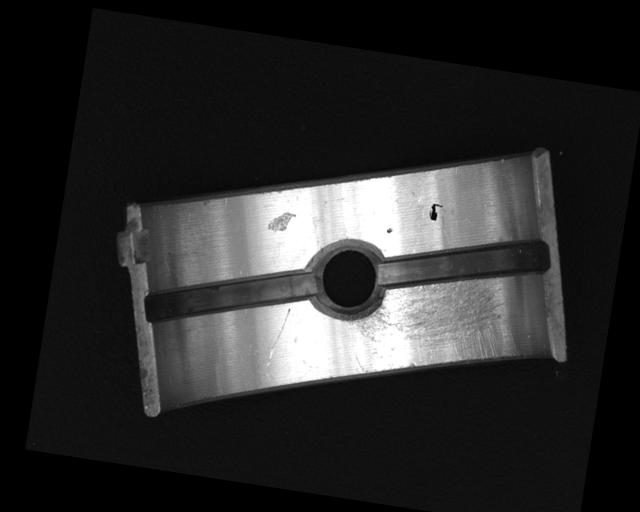blot: (427, 201, 444, 223)
bruise: (265, 208, 297, 237), (385, 226, 393, 233)
gap: (144, 245, 319, 345), (374, 216, 553, 309)
hole: (302, 234, 391, 322)
nick: (266, 305, 291, 368)
scratch: (348, 251, 531, 396)
